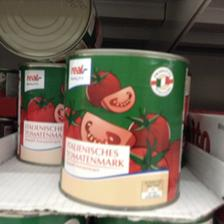Tomatensauce: (56, 46, 188, 210)
